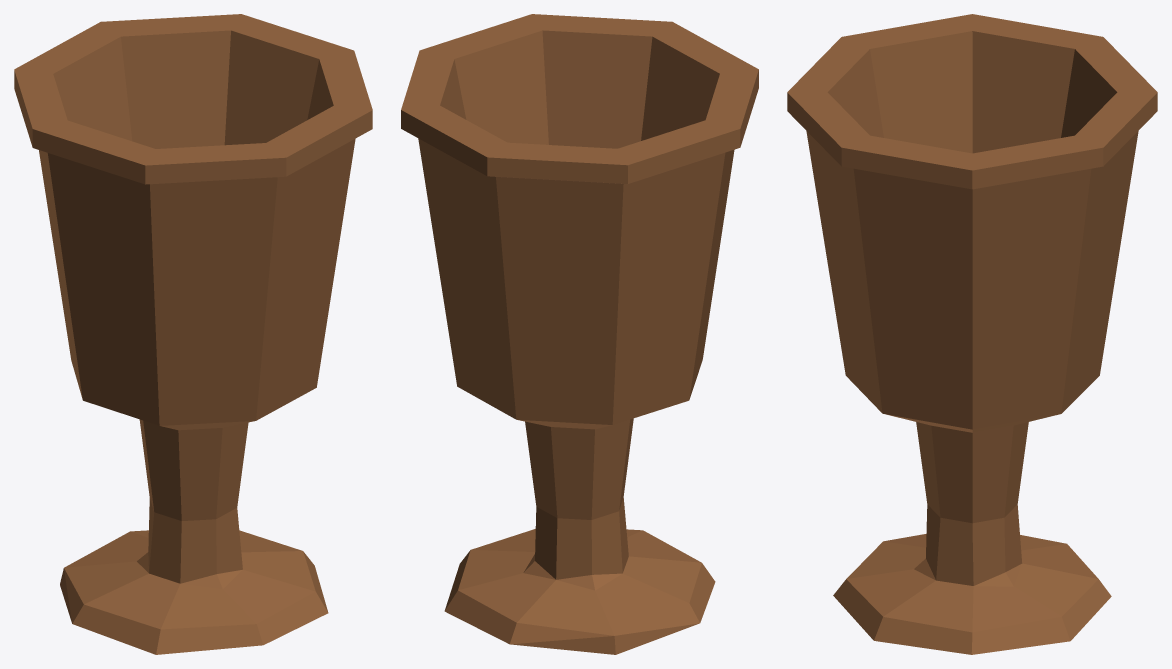
The model's file is Wineglass.fbx.
The picture shows the model from 3 angles, left to right: view 1: azimuth 30°, elevation 25°; view 2: azimuth 150°, elevation 25°; view 3: azimuth 270°, elevation 25°; orthographic projection.
Visible parts, largest first — view 1: Wineglass; view 2: Wineglass; view 3: Wineglass.
Boxes of the visible parts, box(x1,y1,x2,y2) form: Wineglass: box(14, 14, 372, 654); Wineglass: box(401, 14, 758, 654); Wineglass: box(787, 14, 1157, 654).
Bounding box in the file's own units: 14.15 × 21.44 × 14.15.
